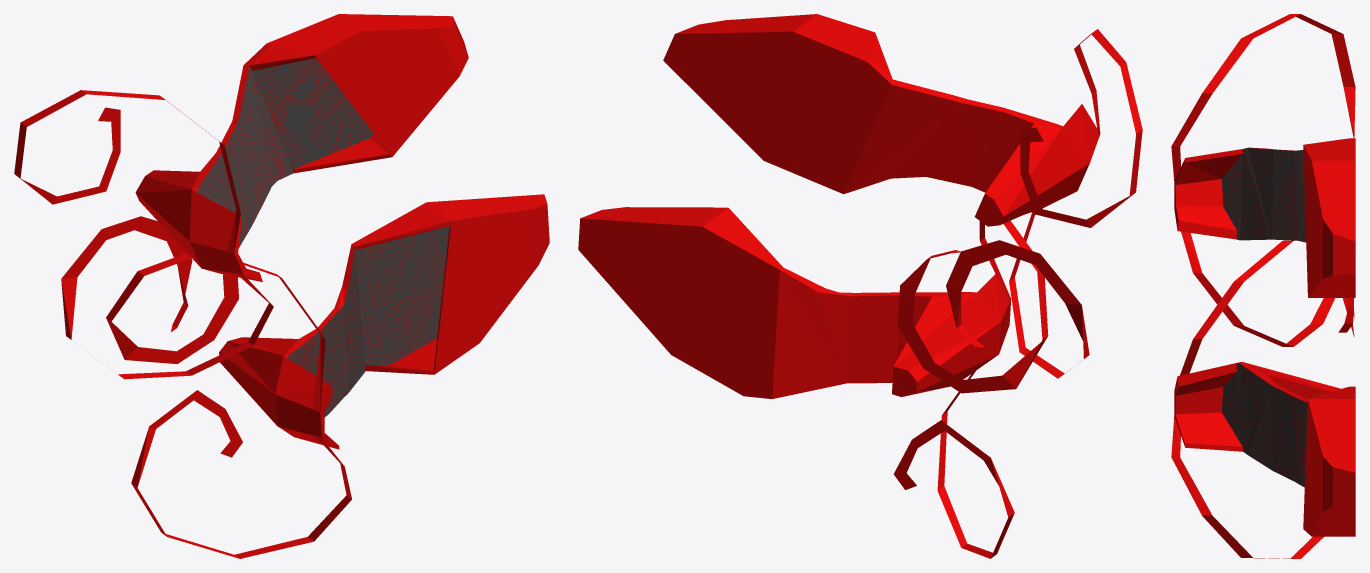
3 renders of one model, left to right at view 1: azimuth 30°, elevation 25°; view 2: azimuth 150°, elevation 25°; view 3: azimuth 270°, elevation 25°, orthographic. The views are drawn at different scales.
Parts seen in each view (by area): view 1: shoe; view 2: shoe; view 3: shoe.
Boxes of the visible parts, <box> form: shoe: <box>14,14,549,558</box>; shoe: <box>578,14,1142,558</box>; shoe: <box>1171,14,1355,558</box>.
Bounding box in the file's own units: 253 × 228 × 80.22.
